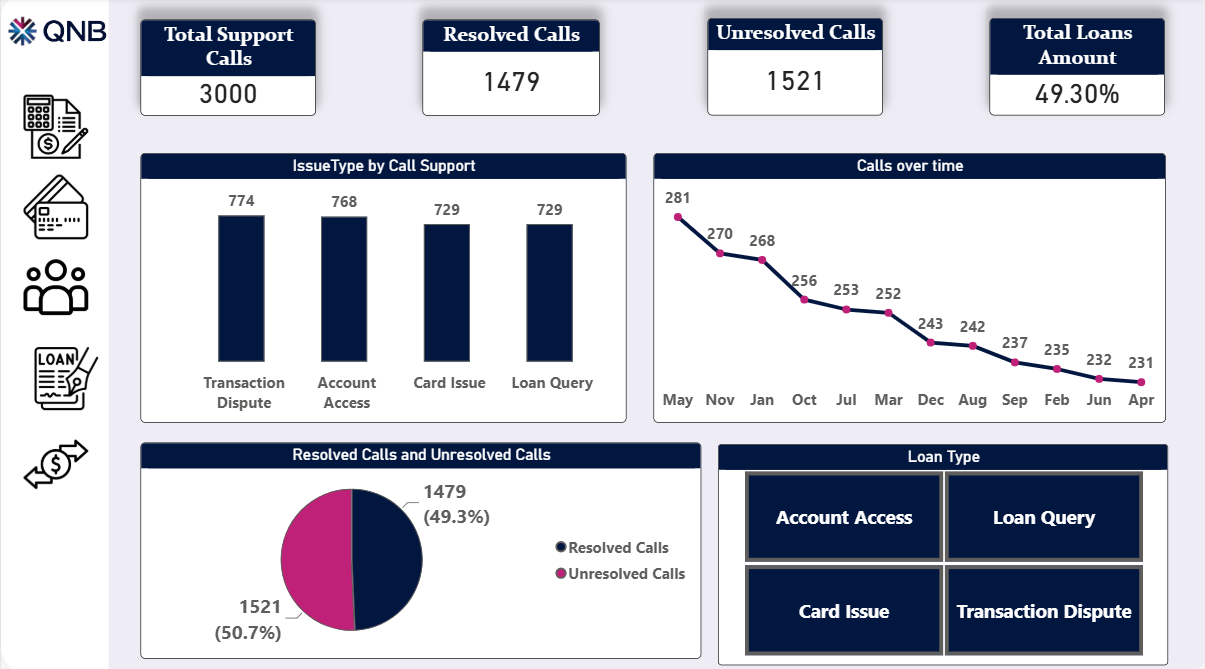

The page's visual inventory and layout, read from the dashboard file:
{"tool":"powerbi","page":{"name":"SupportCalls","canvas":[1280,720],"ordinal":6},"visuals":[{"type":"image","box":[23.9,100.2,68.4,74.8],"z":0},{"type":"image","box":[23.9,175,68.4,95.4],"z":1000},{"type":"image","box":[23.9,270.4,68.4,74.8],"z":2000},{"type":"image","box":[23.9,448.6,68.4,93.8],"z":3000},{"type":"image","box":[0,0,117.7,77.9],"z":4000},{"type":"image","box":[35,359.5,68.4,89.1],"z":5000},{"type":"card","title":"Total Support Calls","fields":{"Values":["_Measure.Total SupportCalls"]},"box":[148.3,24.1,186.2,101.7],"z":6000},{"type":"card","title":"Unresolved Calls","fields":{"Values":["_Measure.Unresolved Calls"]},"box":[748.9,22.4,186.2,103.4],"z":7000},{"type":"card","title":"Resolved Calls","fields":{"Values":["_Measure.Resolved Calls"]},"box":[447.7,24.1,187.9,101.7],"z":8000},{"type":"card","title":"Total Loans Amount","fields":{"Values":["_Measure.Resolved Rate"]},"box":[1048.3,22.4,186.2,103.4],"z":9000},{"type":"clusteredColumnChart","title":"IssueType by Call Support","fields":{"Category":["SupportCalls.IssueType"],"Y":["_Measure.Total SupportCalls"]},"box":[148.3,165.5,515.5,286.2],"z":10000},{"type":"pieChart","fields":{"Y":["_Measure.Resolved Calls","_Measure.Unresolved Calls"]},"box":[148.3,472.4,594.8,229.3],"z":11000},{"type":"lineChart","title":"Calls over time","fields":{"Category":["SupportCalls.Month"],"Y":["CountNonNull(SupportCalls.CallDate)"]},"box":[691.4,165.5,543.1,286.2],"z":12000},{"type":"slicer","title":"Loan Type","fields":{"Values":["SupportCalls.IssueType"]},"box":[760.3,474.1,477.6,234.5],"z":13000}]}

Visuals, with their boxes in screenshot pixels (x1, y1, x2, y2), scaled from the page's 1280x720 canvas onto the 1205x669 screenshot:
image: 22, 93, 87, 163
image: 22, 163, 87, 251
image: 22, 251, 87, 321
image: 22, 417, 87, 504
image: 0, 0, 111, 72
image: 33, 334, 97, 417
"Total Support Calls" card: 140, 22, 315, 117
"Unresolved Calls" card: 705, 21, 880, 117
"Resolved Calls" card: 421, 22, 598, 117
"Total Loans Amount" card: 987, 21, 1162, 117
"IssueType by Call Support" clusteredColumnChart: 140, 154, 625, 420
pieChart - _Measure.Resolved Calls x _Measure.Unresolved Calls: 140, 439, 700, 652
"Calls over time" lineChart: 651, 154, 1162, 420
"Loan Type" slicer: 716, 441, 1165, 658
